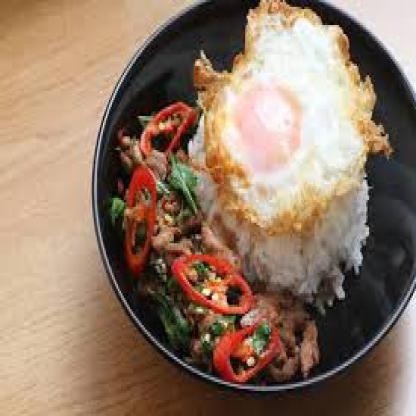Basil Rice: (108, 32, 394, 400)
